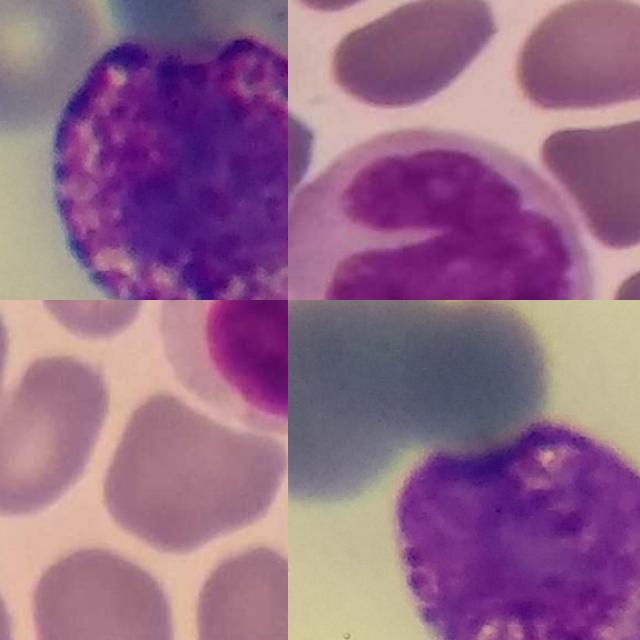Basophil: (49, 36, 288, 300), (396, 422, 640, 640)
Lymphocyte: (161, 300, 288, 437)
Monocyte: (288, 125, 593, 300)
